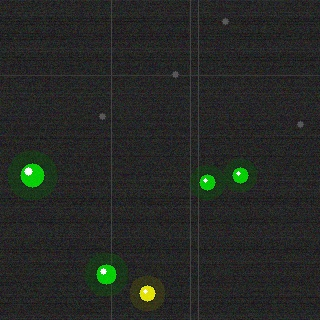green_normal: (18, 161, 46, 189), (94, 262, 118, 286), (230, 165, 250, 185), (197, 172, 217, 192)
yellow_warning: (137, 283, 157, 303)
